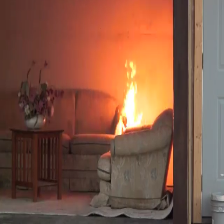fire_h: (115, 82, 140, 135), (165, 140, 174, 191)
fire_l: (125, 61, 136, 79)
